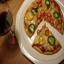pizza: (24, 2, 64, 54)
